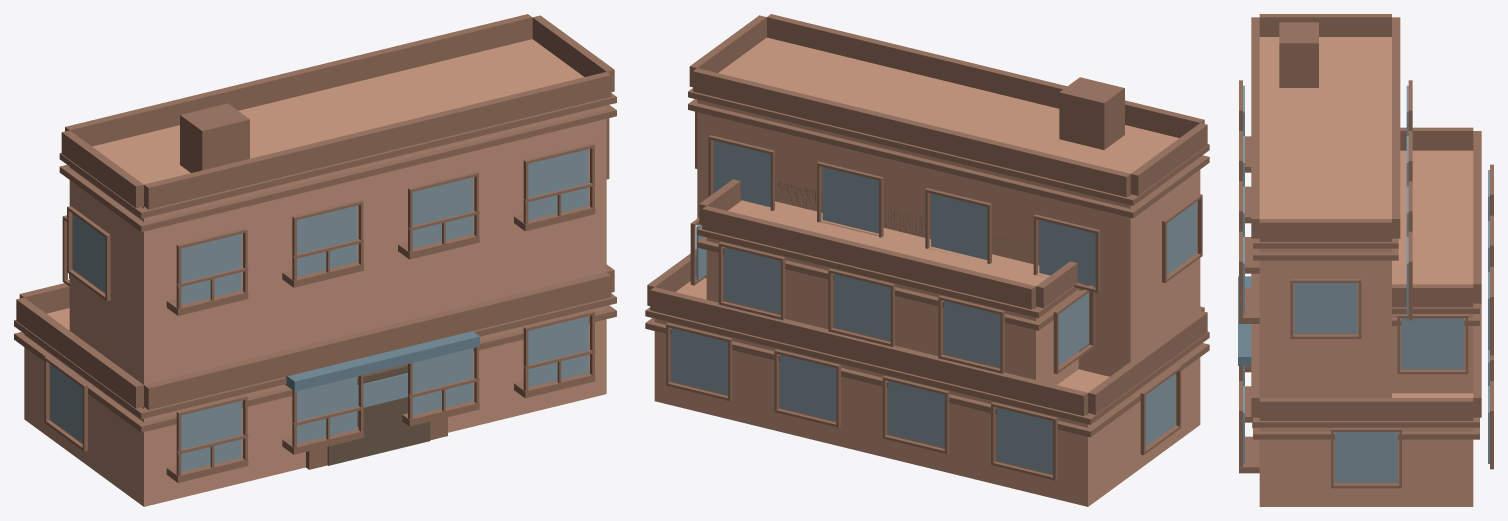
Rendered from residential_2x1_court.glb.
3 renders of one model, left to right at view 1: azimuth 30°, elevation 25°; view 2: azimuth 150°, elevation 25°; view 3: azimuth 270°, elevation 25°, orthographic. The views are drawn at different scales.
Visible parts, largest first — view 1: residential_2x1_court_0; view 2: residential_2x1_court_0; view 3: residential_2x1_court_0.
Boxes of the visible parts, x1=… form: residential_2x1_court_0: x1=14, y1=14, x2=616, y2=506; residential_2x1_court_0: x1=645, y1=14, x2=1209, y2=506; residential_2x1_court_0: x1=1238, y1=14, x2=1493, y2=506.
Bounding box in the file's own units: 15.74 × 10.5 × 7.77.
